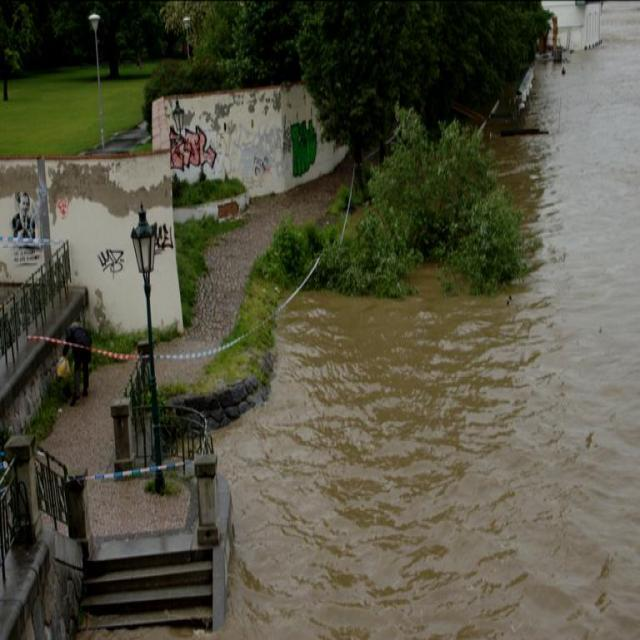flood: (218, 296, 639, 639)
